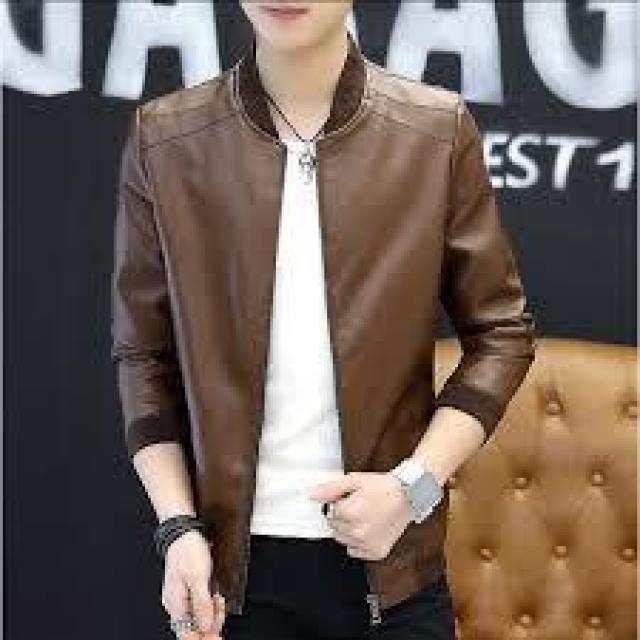jacket: (98, 42, 533, 578)
